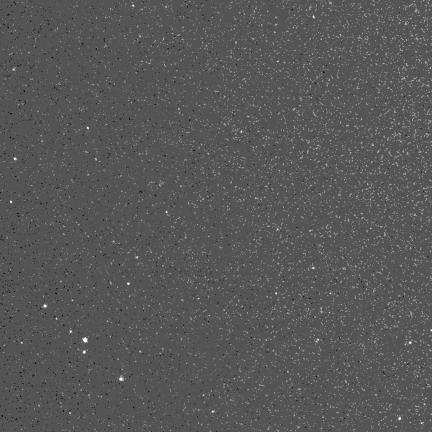blob: (119, 376, 124, 381), (83, 338, 88, 342), (409, 341, 413, 345), (44, 305, 48, 309), (70, 330, 73, 334), (10, 200, 13, 204), (398, 416, 401, 420), (14, 157, 17, 160), (127, 283, 130, 286), (275, 292, 278, 295), (83, 351, 86, 353)
